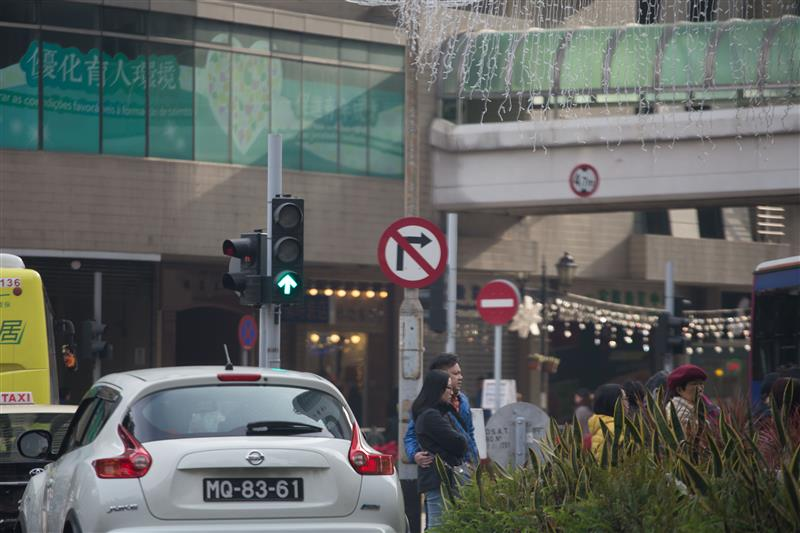4.7mHeightLimit: (566, 161, 600, 198)
noEntry: (474, 279, 520, 324)
noRightTurn: (378, 215, 446, 287)
